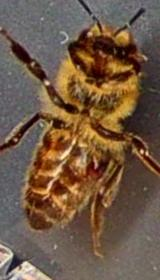varroa_mite: (75, 146, 113, 184)
